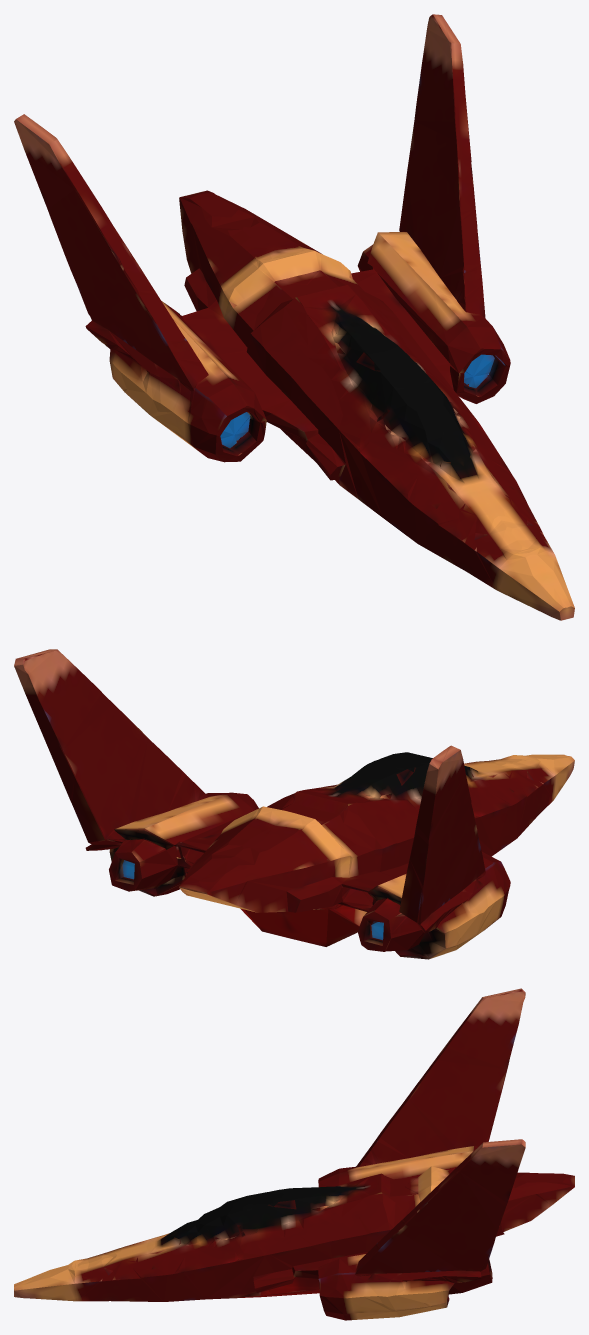
3 renders of one model, top to bottom at view 1: azimuth 30°, elevation 25°; view 2: azimuth 150°, elevation 25°; view 3: azimuth 270°, elevation 25°, orthographic. The views are drawn at different scales.
Visible parts, largest first — view 1: world; view 2: world; view 3: world.
Boxes of the visible parts, left/top/right/bottom form: world: left=14, top=14, right=574, bottom=620; world: left=14, top=649, right=574, bottom=959; world: left=14, top=988, right=574, bottom=1320.
Size of the model in its own units: 0.6597 by 0.4555 by 1.
Materials: 1 (1 with a texture image).
